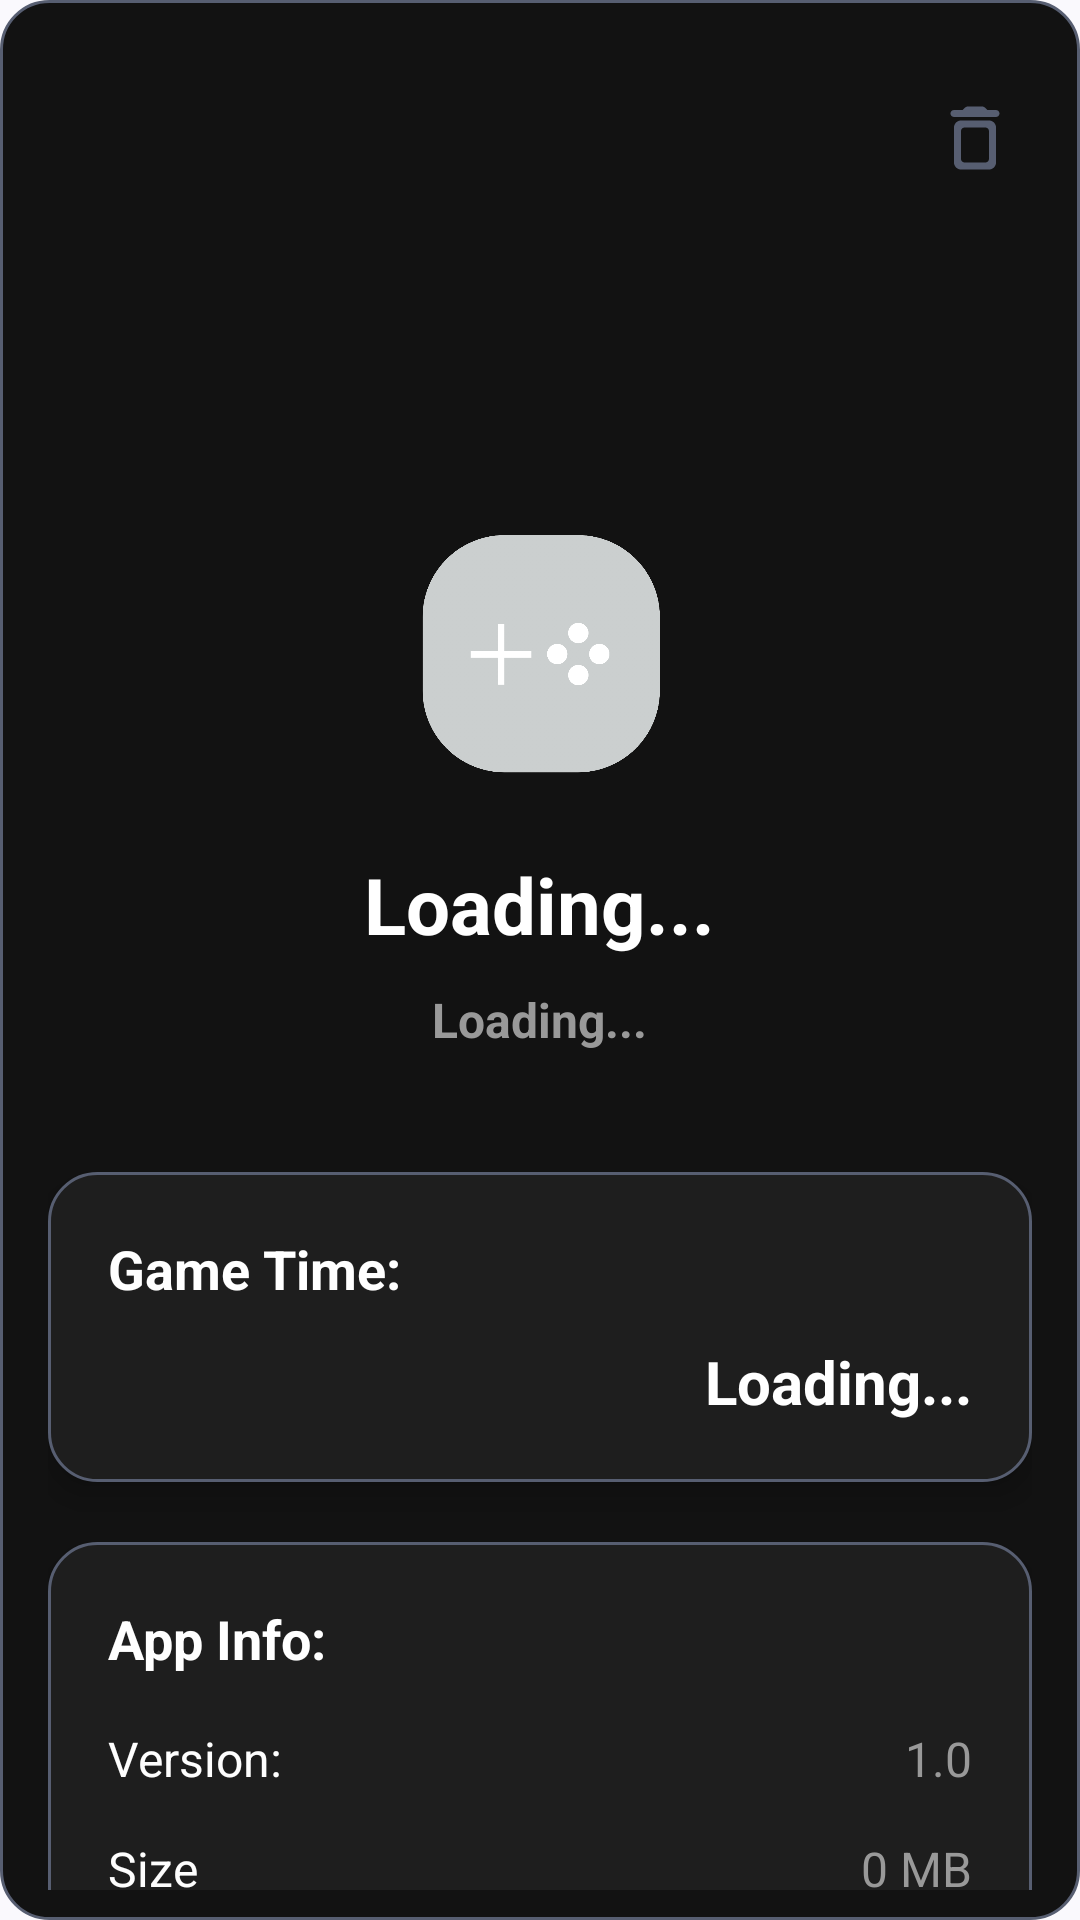

Icon bounding boxes for this 1080px×1920px phone screenshot, format (x1, y1, x2, y2):
Delete: (950, 106, 1000, 170)
Game Icon: (423, 535, 660, 773)
